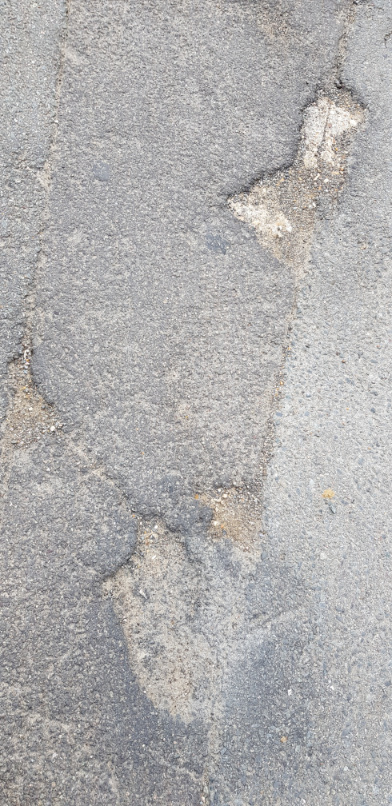pothole: (220, 67, 375, 274), (99, 500, 220, 734)
